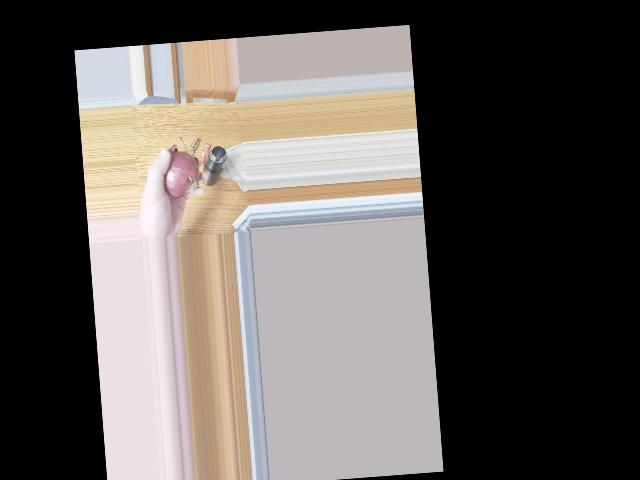onion: (159, 151, 196, 195)
